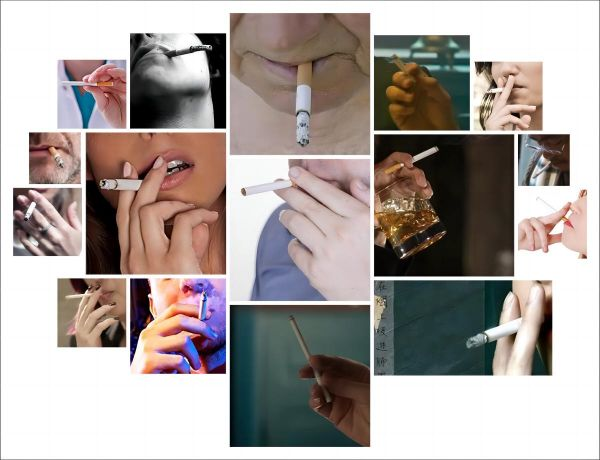smoke: (285, 314, 335, 404), (465, 314, 530, 352), (384, 145, 443, 180), (294, 62, 314, 148), (523, 136, 562, 166), (240, 180, 299, 198), (523, 192, 564, 216), (165, 42, 216, 60), (391, 53, 418, 87), (59, 289, 99, 306), (100, 177, 145, 192), (49, 145, 67, 172), (197, 288, 210, 324), (63, 79, 115, 88), (532, 162, 556, 181), (26, 200, 38, 220), (488, 86, 507, 95)
